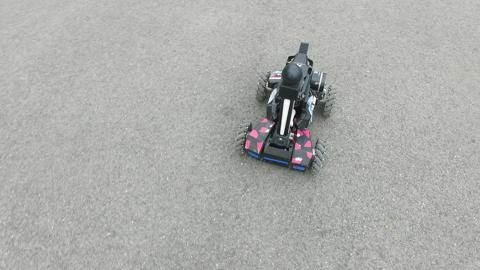chariot: (235, 41, 335, 175)
